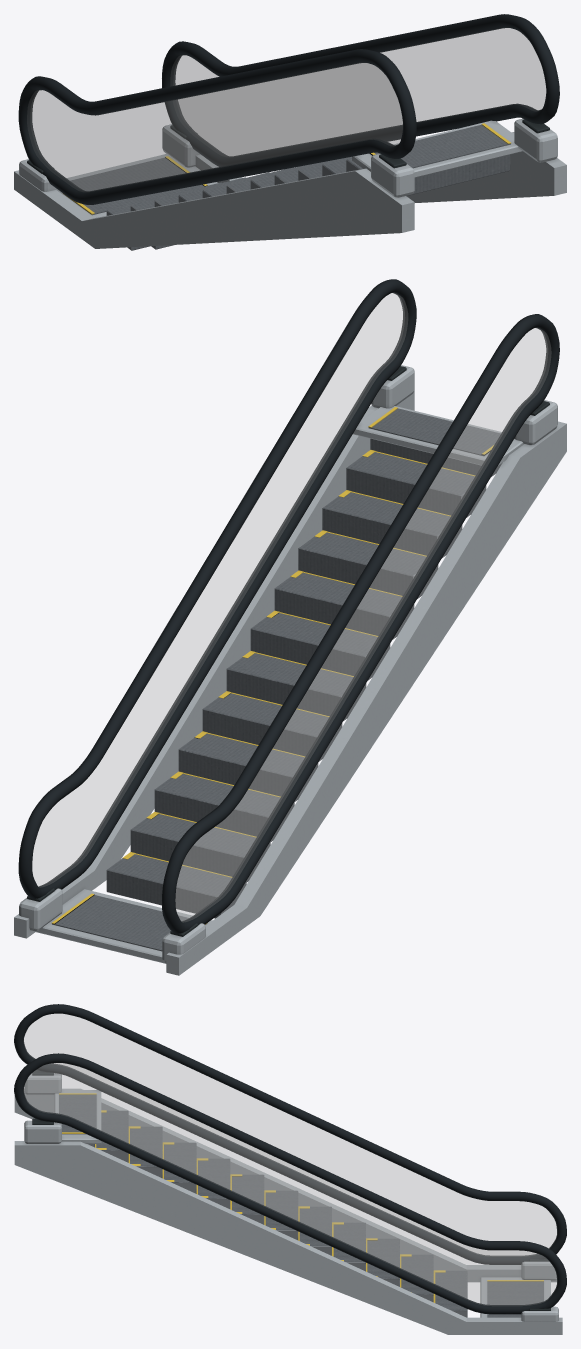
The model's file is airport_escalator.glb.
3 renders of one model, top to bottom at view 1: azimuth 30°, elevation 25°; view 2: azimuth 150°, elevation 25°; view 3: azimuth 270°, elevation 25°, orthographic. The views are drawn at different scales.
Visible parts, largest first — view 1: airport_escalator_Body, EscalatorGlass; view 2: airport_escalator_Body, EscalatorGlass; view 3: airport_escalator_Body, EscalatorGlass.
Part boxes in pixels (bbox=[...]): airport_escalator_Body: bbox=[14, 14, 566, 250]; EscalatorGlass: bbox=[27, 28, 545, 191]; airport_escalator_Body: bbox=[14, 279, 566, 975]; EscalatorGlass: bbox=[32, 293, 550, 921]; airport_escalator_Body: bbox=[14, 1004, 566, 1334]; EscalatorGlass: bbox=[24, 1014, 556, 1305].
Bounding box in the file's own units: 1.43 × 3.25 × 5.87.
Materials: 2 (1 with a texture image).
